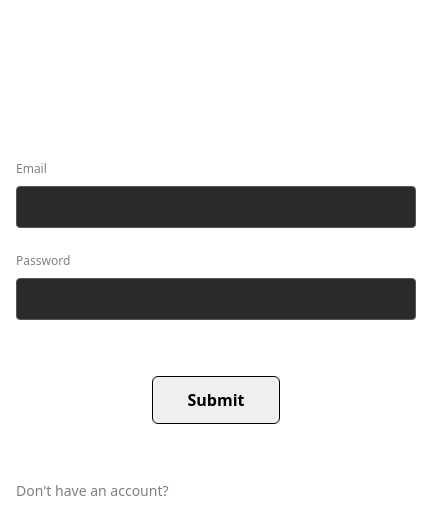
it: LoginPage › shows wrong password error
Type "test@example.com" into the field labelled "Email". click: [216, 207]
box: [16, 186, 416, 228]
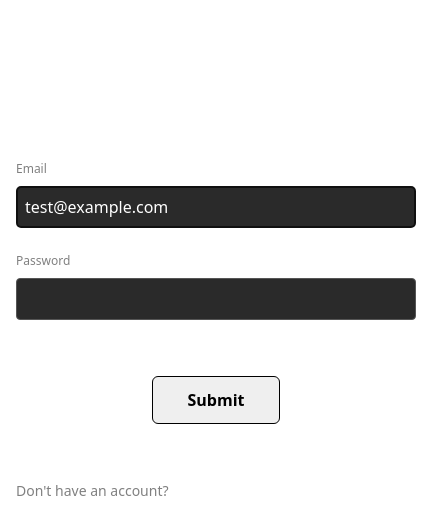
Type "wrongpassword" into the password field labelled "Password". click: [216, 299]
box: [16, 278, 416, 320]
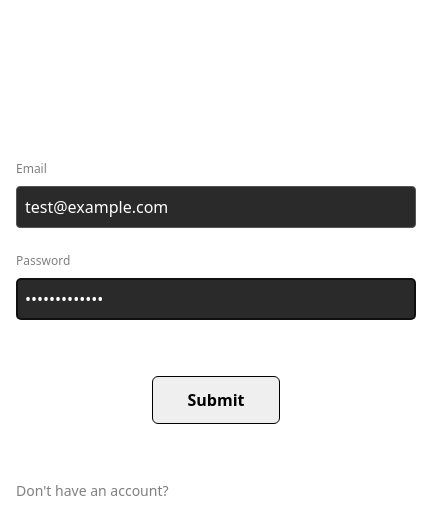
Click the button "Submit". click: [216, 400]
box: [152, 376, 280, 424]
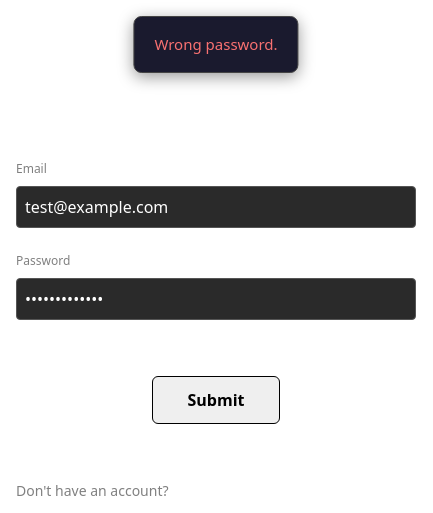
Now the list item "Wrong password." is shown, box [154, 33, 278, 56]
